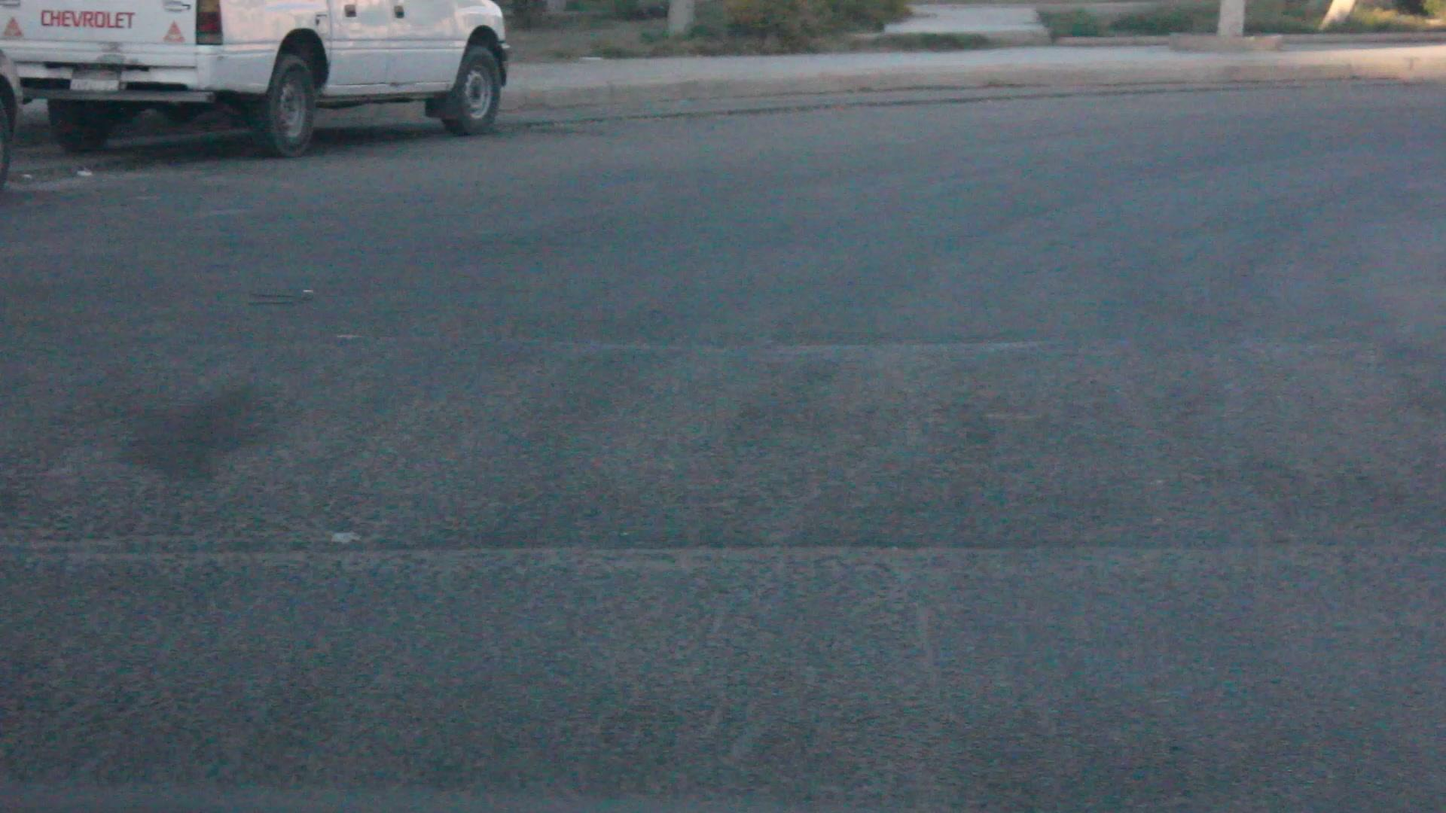Bump: (0, 318, 1446, 582)
